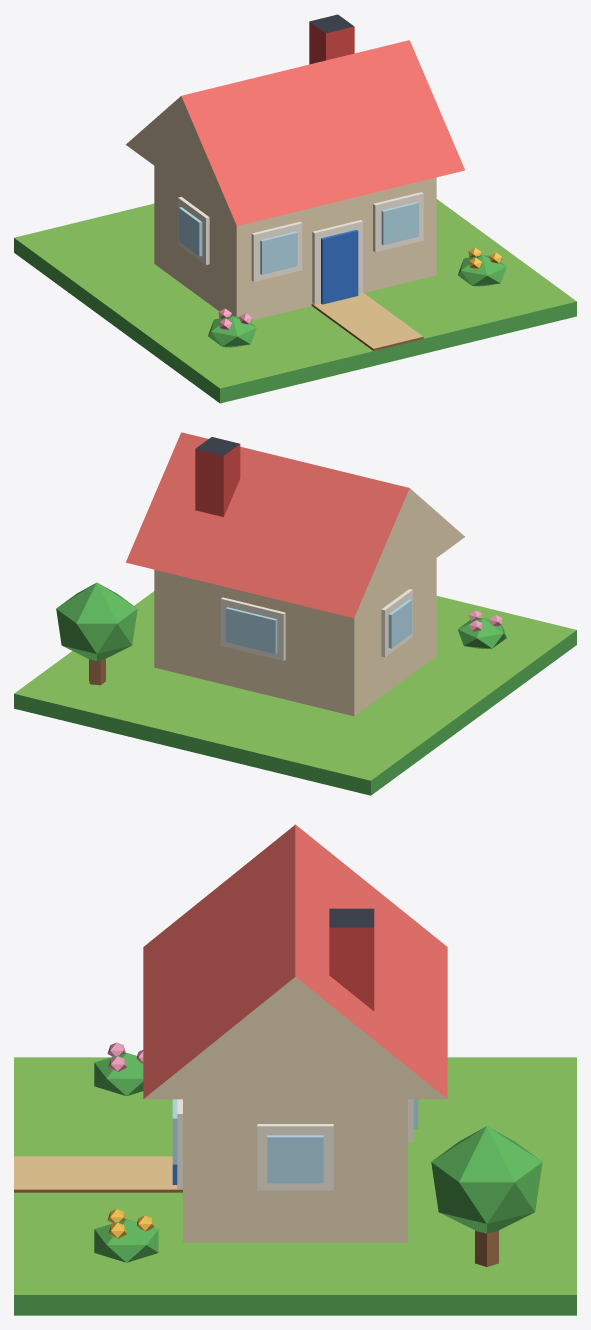
Rendered from house_basic.glb.
The picture shows the model from 3 angles, top to bottom: view 1: azimuth 30°, elevation 25°; view 2: azimuth 150°, elevation 25°; view 3: azimuth 270°, elevation 25°; orthographic projection. The views are drawn at different scales.
Parts seen in each view (by area): view 1: house_basic; view 2: house_basic; view 3: house_basic.
Part boxes in pixels (x1=…): house_basic: x1=14, y1=14, x2=576, y2=403; house_basic: x1=14, y1=432, x2=576, y2=795; house_basic: x1=14, y1=824, x2=576, y2=1315.
Size of the model in its own units: 1 by 0.62 by 1.
